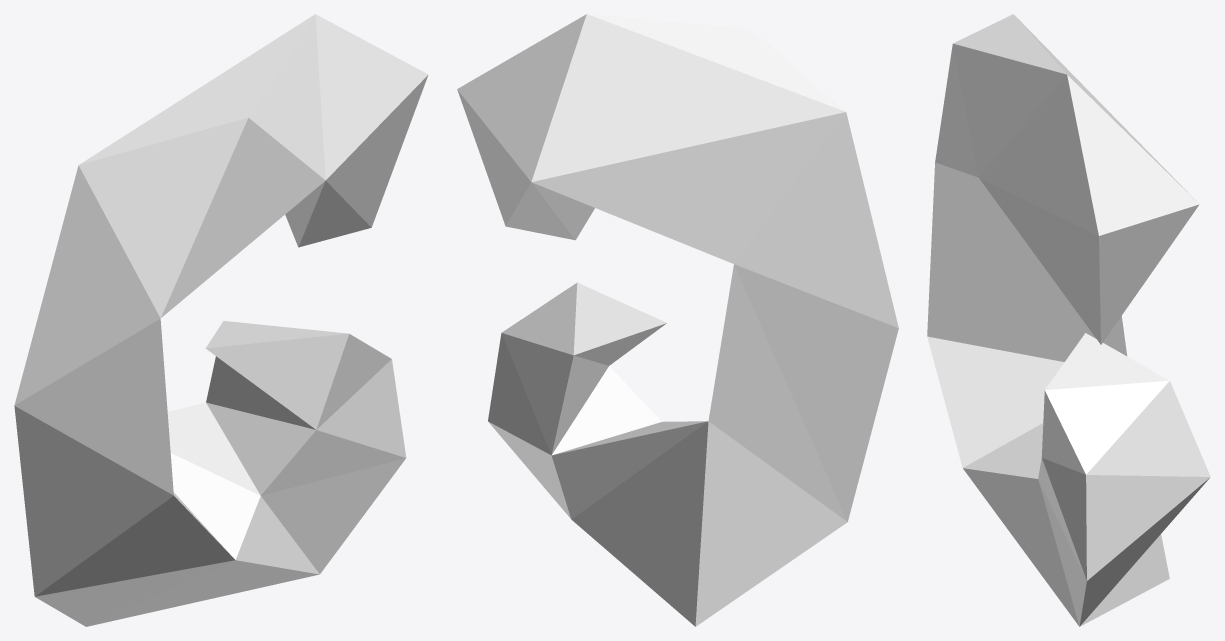
The picture shows the model from 3 angles, left to right: view 1: azimuth 30°, elevation 25°; view 2: azimuth 150°, elevation 25°; view 3: azimuth 270°, elevation 25°; orthographic projection. The views are drawn at different scales.
Parts seen in each view (by area): view 1: gesh; view 2: gesh; view 3: gesh.
Part boxes in pixels (<box>): gesh: <box>14,14,428,626</box>; gesh: <box>457,14,898,626</box>; gesh: <box>927,14,1210,626</box>.
Size of the model in its own units: 0.3531 by 0.4505 by 0.1973.
1 material, 1 textured.
